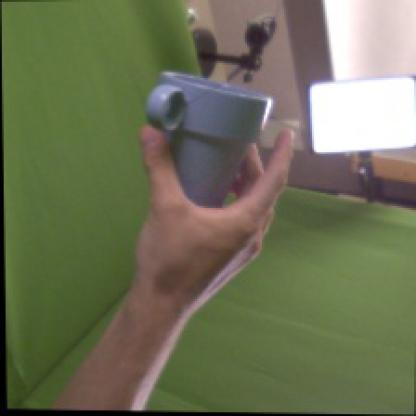Hand: (140, 125, 296, 302)
